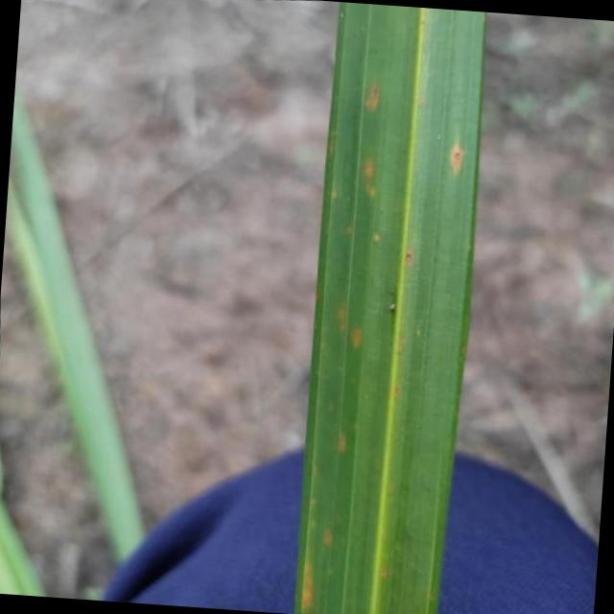Kalium: (299, 0, 491, 614)
